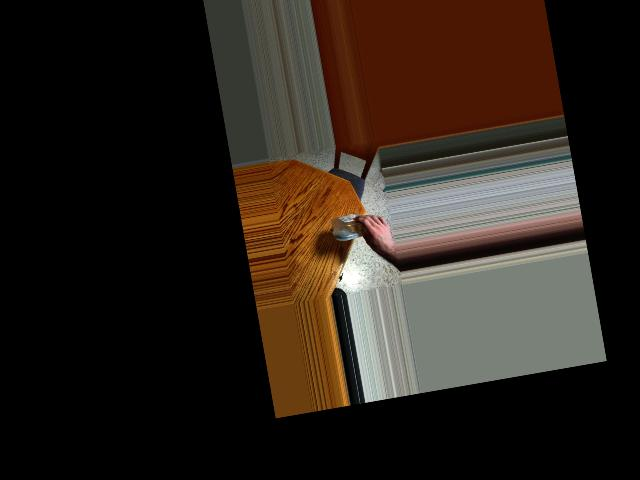cheese: (325, 204, 377, 252)
